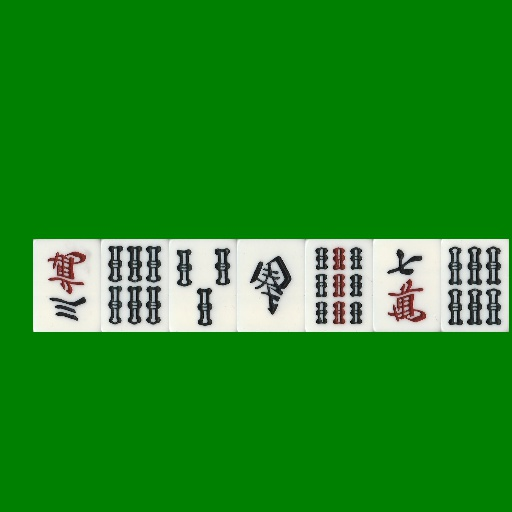3m: (33, 239, 101, 332)
3s: (169, 239, 237, 332)
6s: (101, 239, 169, 332), (441, 239, 509, 332)
7m: (373, 239, 441, 332)
9s: (305, 239, 373, 332)
south: (237, 239, 305, 332)
